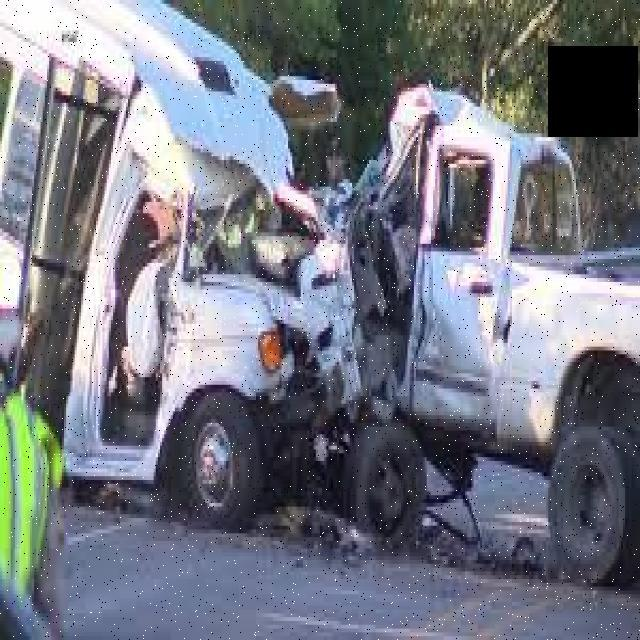severe: (4, 3, 638, 594)
